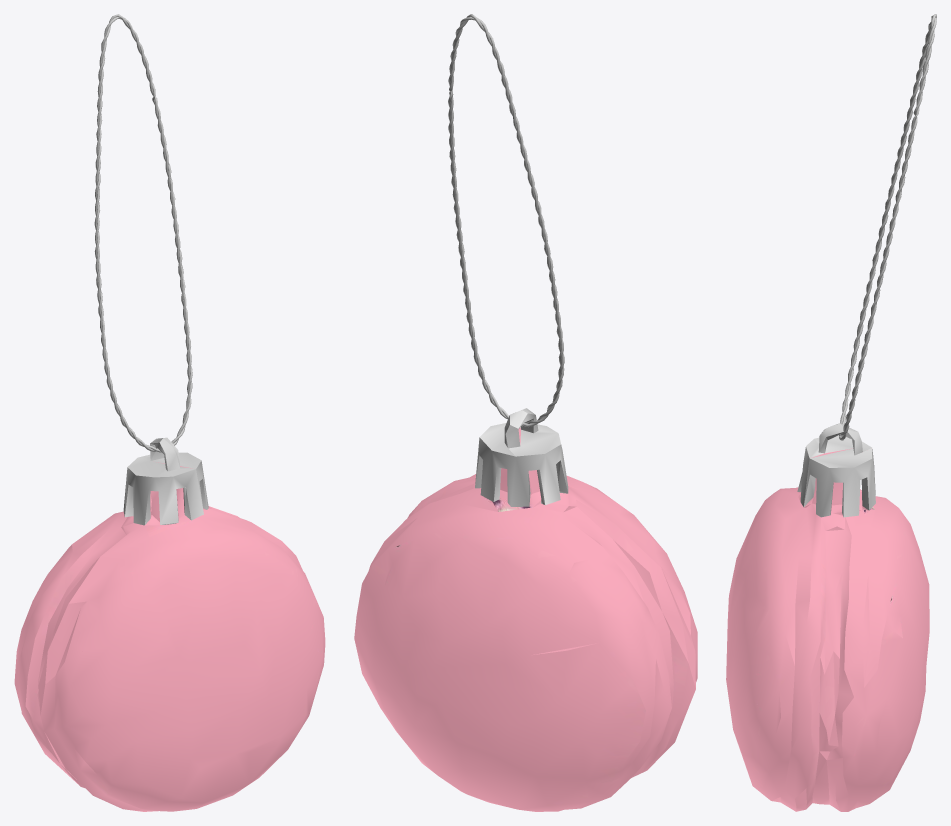
The model's file is macaron_red.glb.
3 views of the same model, side by side, from view 1: azimuth 30°, elevation 25°; view 2: azimuth 150°, elevation 25°; view 3: azimuth 270°, elevation 25° (orthographic). The views are drawn at different scales.
Visible parts, largest first — view 1: Mesh1.0, GN Instance; view 2: Mesh1.0, GN Instance; view 3: Mesh1.0, GN Instance.
Part boxes in pixels (x1,y1,x2,y2): Mesh1.0: (14,437,325,811); GN Instance: (94,14,192,452); Mesh1.0: (354,408,697,811); GN Instance: (448,14,564,427); Mesh1.0: (726,423,929,811); GN Instance: (839,14,936,440).
Size of the model in its own units: 0.0415 by 0.1052 by 0.0257.
Materials: 3 (1 with a texture image).
